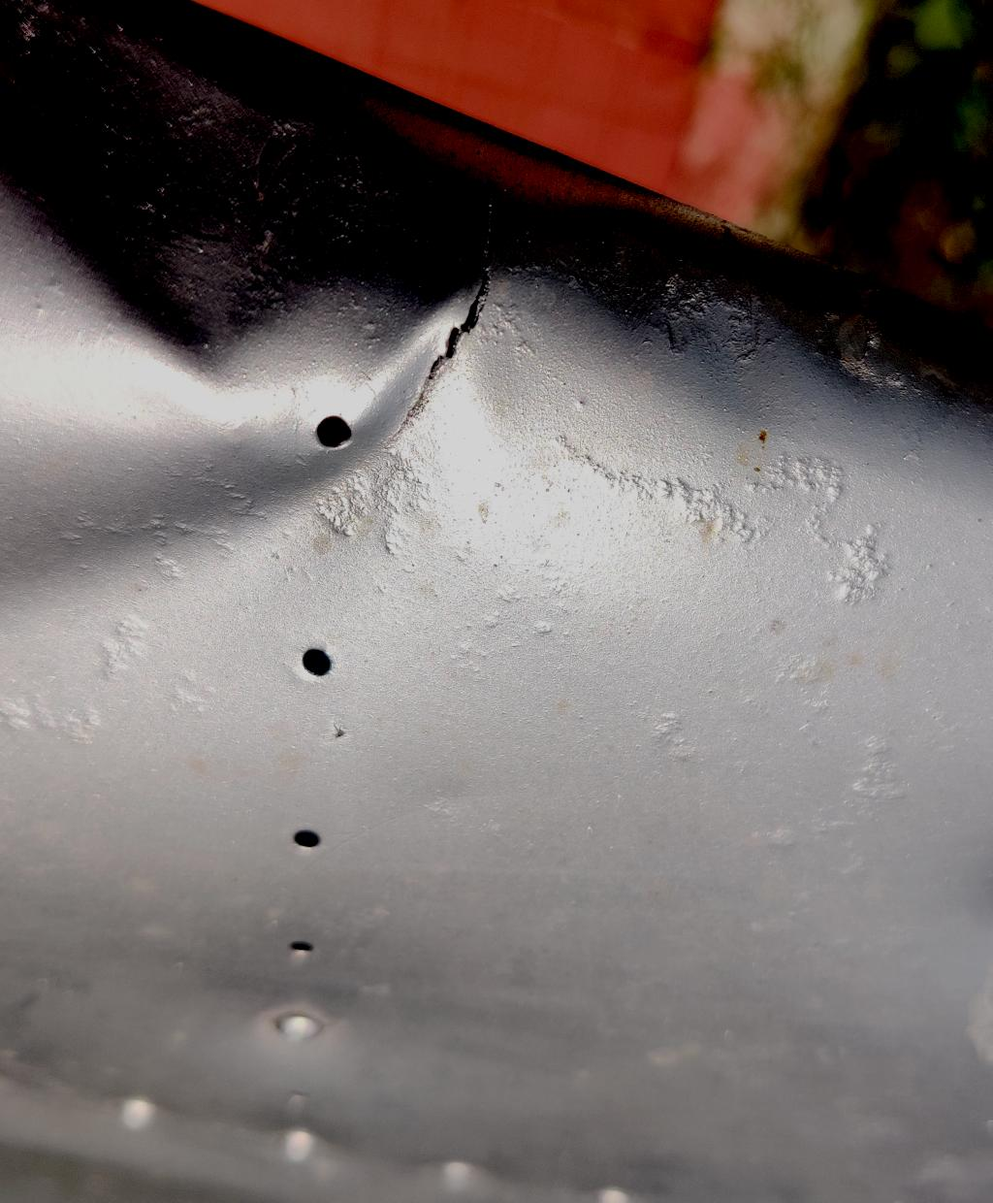crack: (356, 104, 530, 482)
dent: (0, 0, 519, 703), (963, 804, 993, 979)
